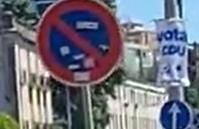estacionamento proibido: (32, 0, 129, 89)
